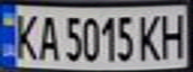0: (81, 12, 100, 63)
1: (100, 12, 118, 62)
5: (115, 11, 139, 62), (60, 12, 84, 62)
A: (33, 11, 60, 62)
H: (157, 8, 190, 60)
K: (6, 9, 42, 62), (136, 11, 166, 62)
